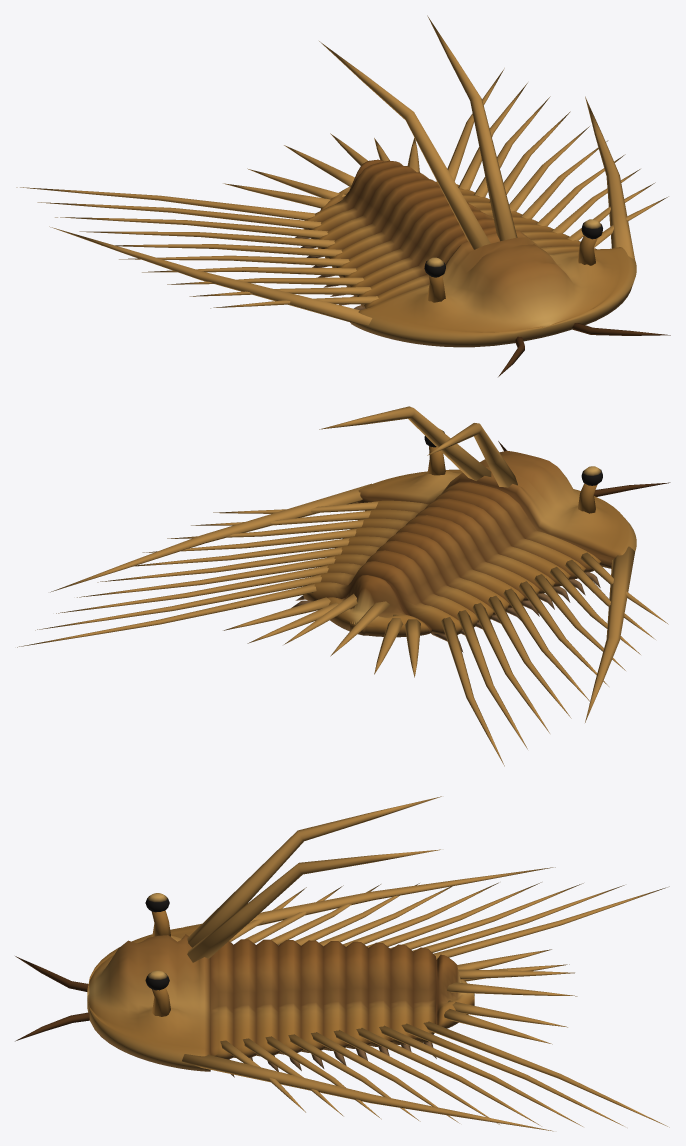
File: BoedaspisEnsifer.fbx
3 renders of one model, top to bottom at view 1: azimuth 30°, elevation 25°; view 2: azimuth 150°, elevation 25°; view 3: azimuth 270°, elevation 25°, orthographic.
Visible parts, largest first — view 1: BoedaspisEnsifer; view 2: BoedaspisEnsifer; view 3: BoedaspisEnsifer.
Part boxes in pixels (x1,y1,x2,y2): BoedaspisEnsifer: [16, 15, 670, 376]; BoedaspisEnsifer: [17, 406, 670, 766]; BoedaspisEnsifer: [15, 796, 669, 1131].
Bounding box in the file's own units: 1.54 × 0.5232 × 1.61.
